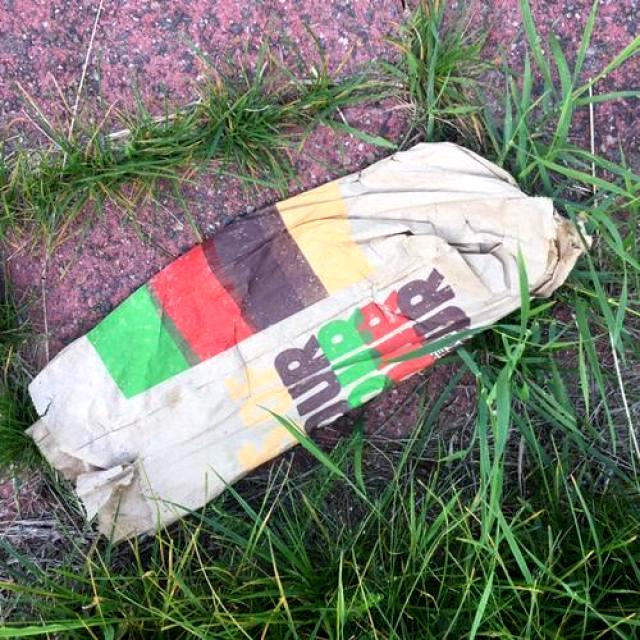Paper: (19, 139, 594, 549)
